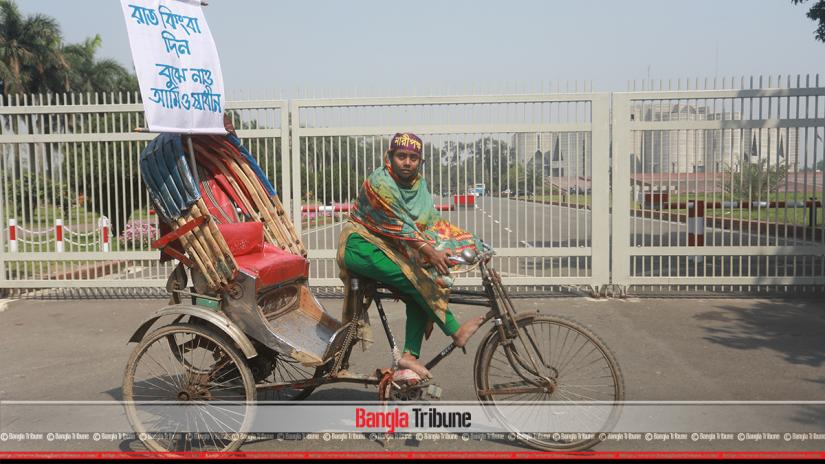Rickshaw: (115, 112, 622, 394)
